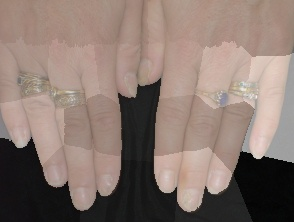Nail_psoriasis: (173, 186, 205, 217), (95, 171, 119, 200), (120, 73, 143, 99), (135, 61, 153, 87)
